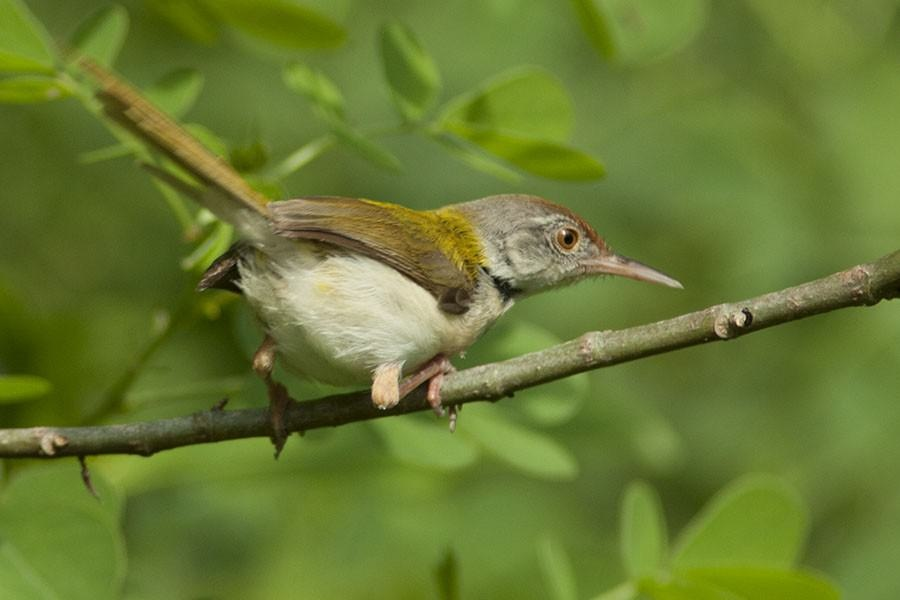tailorbird: (100, 73, 704, 454)
